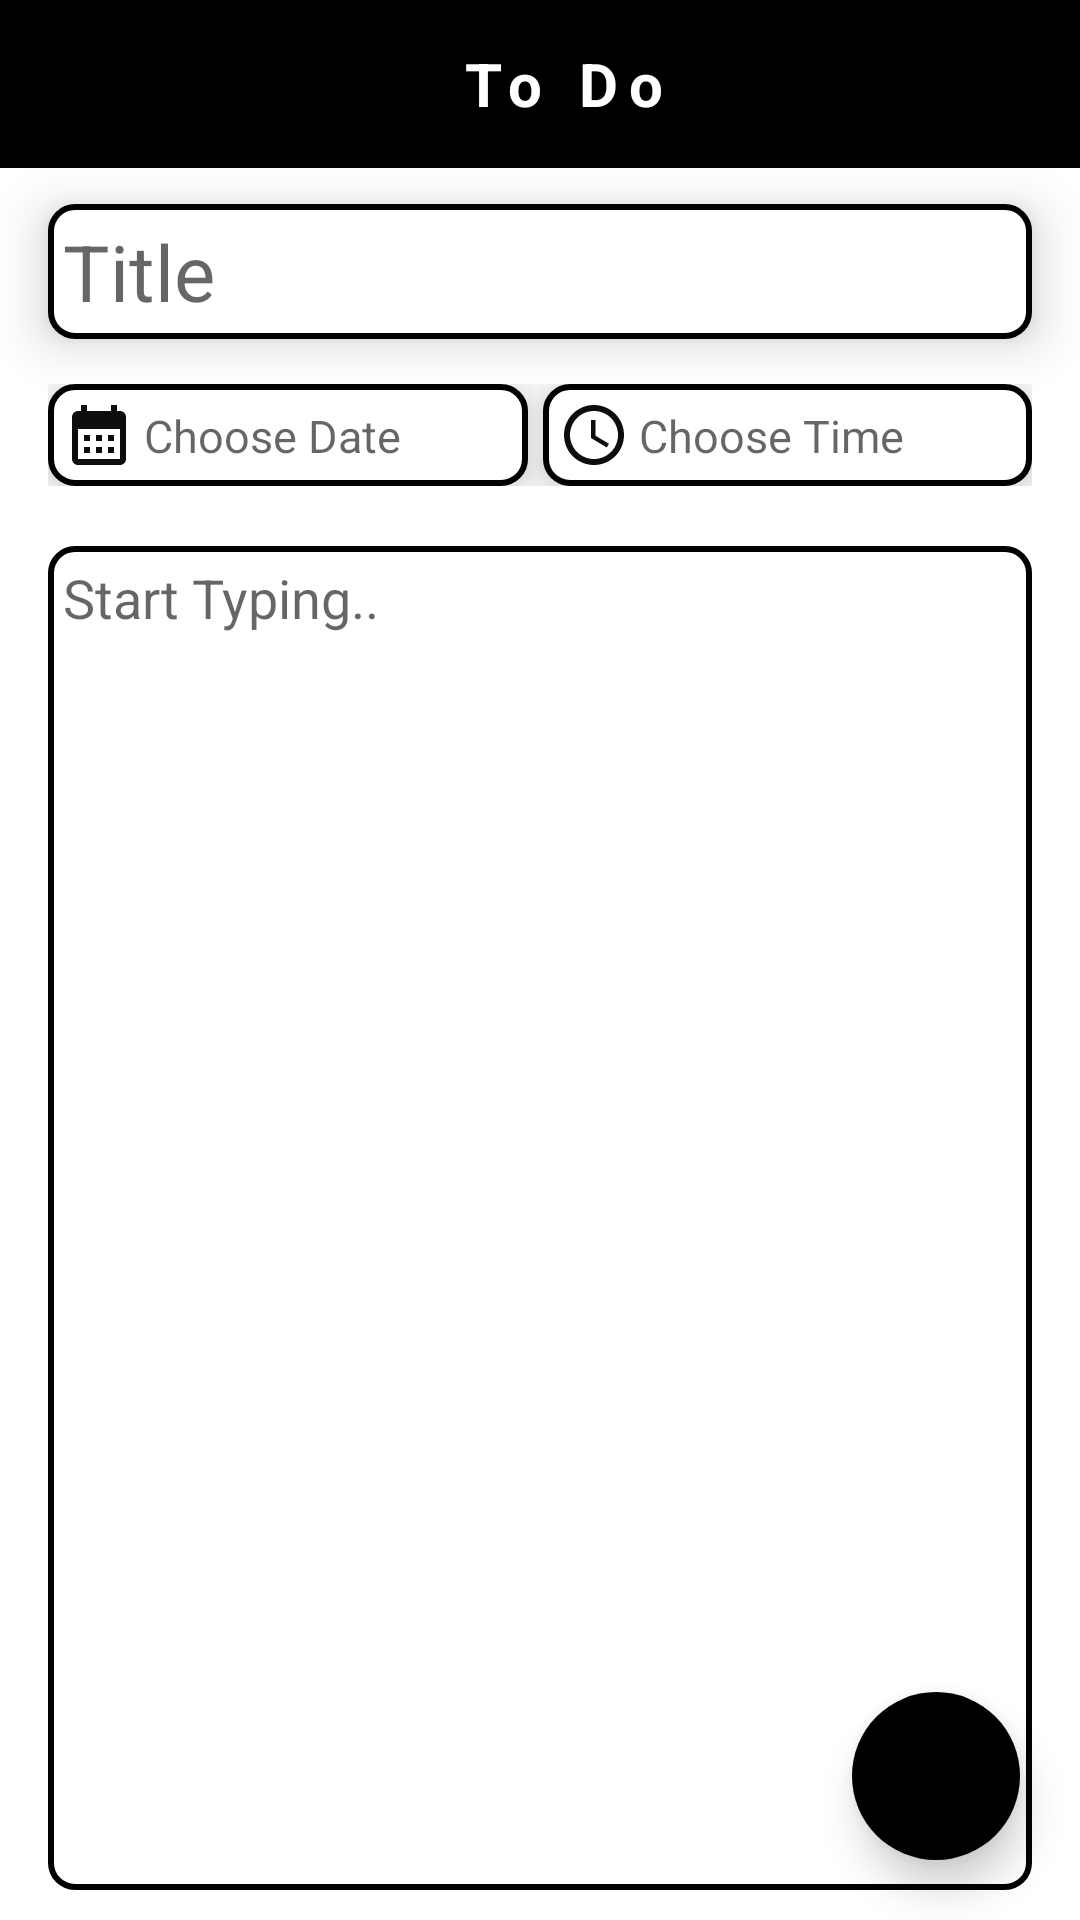

Where to tap for icons on this 1080w x 1920h app screen, as (x=x, y=y):
access time: (x=594, y=435)
calendar month: (x=99, y=435)
